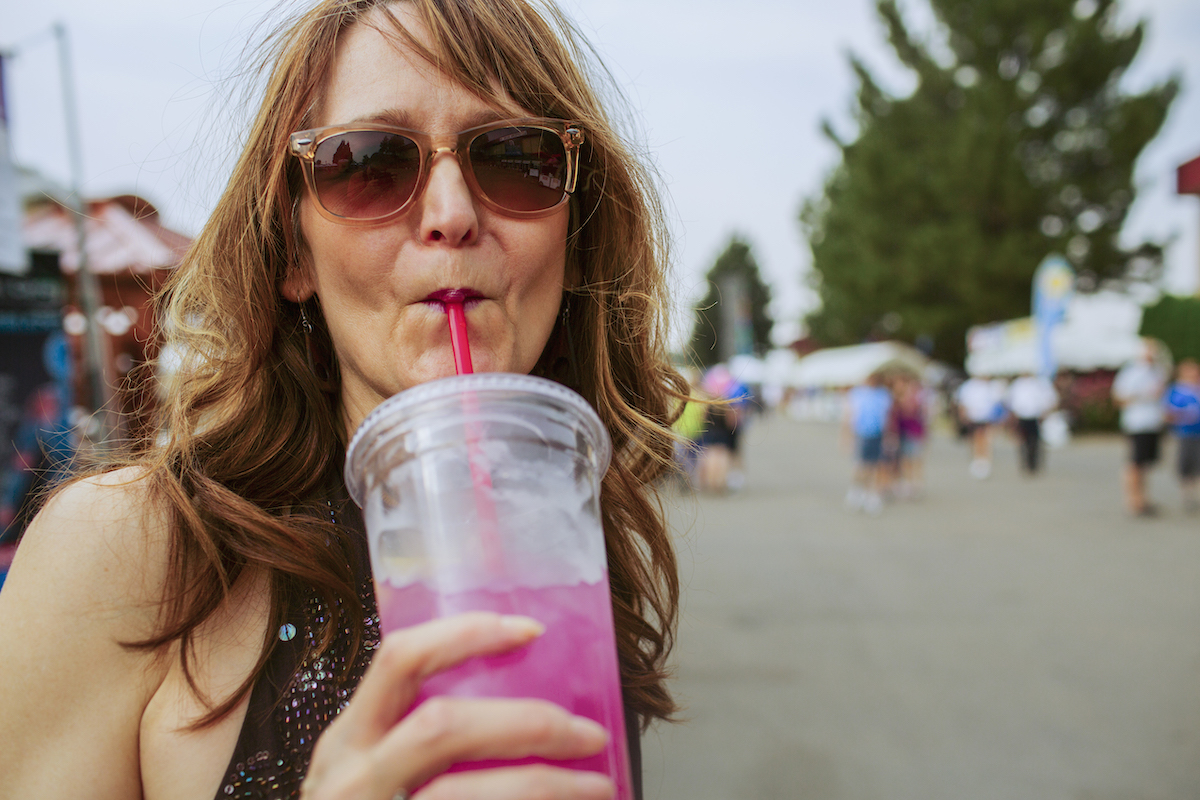drinking: (145, 5, 756, 667)
